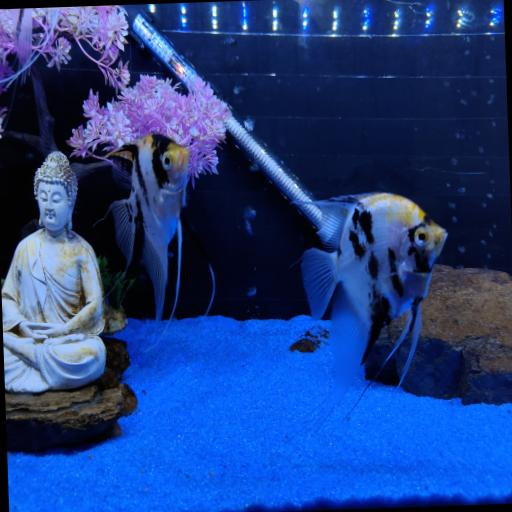Fish: (301, 193, 446, 410), (106, 134, 188, 324)
